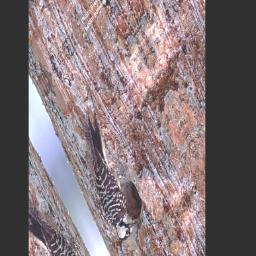Woodpecker: (71, 109, 144, 250)
